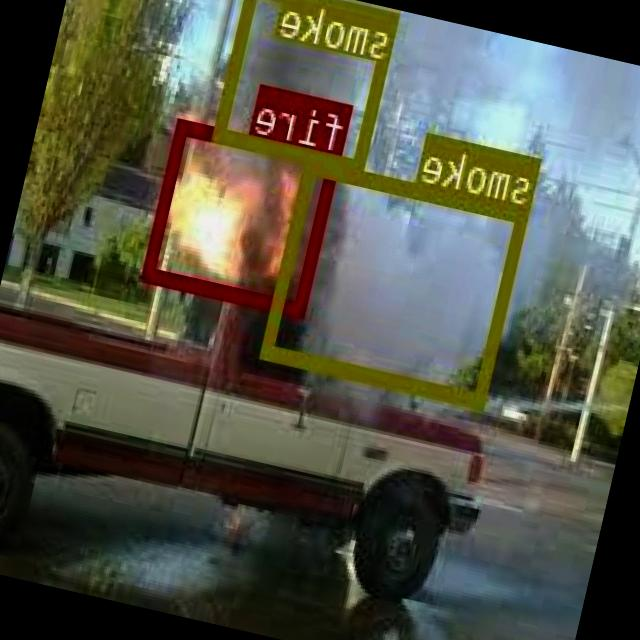fire: (146, 117, 342, 314)
smoke: (263, 157, 531, 408), (216, 0, 401, 173)
